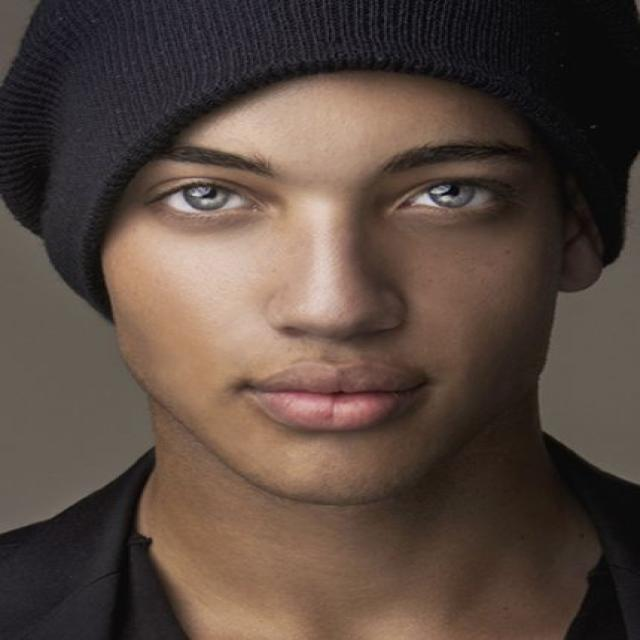front: (154, 162, 533, 441)
